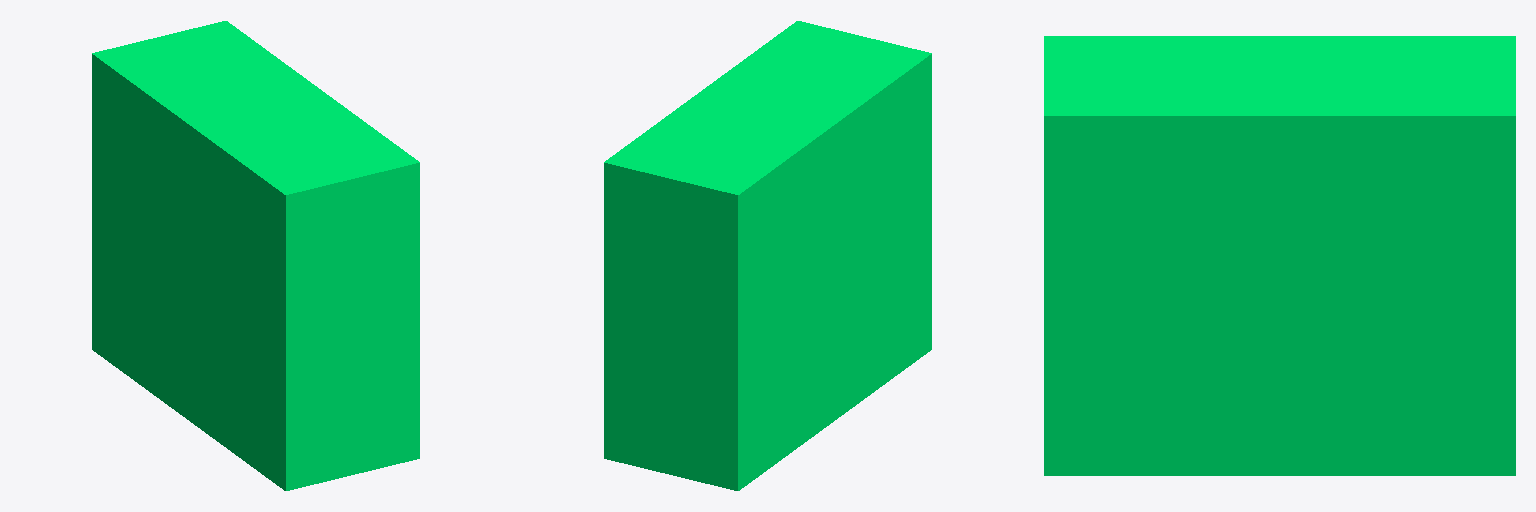
robot.urdf — myfirst:
<?xml version="1.0"?>
 <robot name="myfirst">
   <material name="green">
     <color rgba="0 1 0.498 1"/>
   </material>
   <link name="right_leg">
     <visual>
       <geometry>
         <box size="0.034 0.0848 0.0714"/>
       </geometry>
       <material name="green"/>
     </visual>
     <collision>
       <geometry>
         <box size="0.034 0.0848 0.0714"/>
       </geometry>
     </collision>
     <inertial>
       <mass value="1"/>
       <inertia ixx="1.0" ixy="0.0" ixz="0.0" iyy="1.0" iyz="0.0" izz="1.0"/>
     </inertial>
   </link>
 </robot>

--- What the picture shows (computed from the rendered views, not written in the file) ---
3 views of the same robot in one strip: view 1: azimuth 30°, elevation 25°; view 2: azimuth 150°, elevation 25°; view 3: azimuth 270°, elevation 25° (orthographic).
Model myfirst with 1 links and 0 joints (none), rooted at right_leg, posed every joint at zero.
Visible links, largest first — view 1: right_leg; view 2: right_leg; view 3: right_leg.
Boxes of the visible links, x1=… form: right_leg: x1=92, y1=21, x2=419, y2=490; right_leg: x1=604, y1=21, x2=931, y2=490; right_leg: x1=1044, y1=36, x2=1515, y2=475.
Size in the robot's own frame: 0.034 by 0.0848 by 0.0714 metres.
Geometry: primitives only (box / cylinder / sphere), no mesh files.
